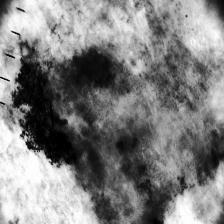Benign Marking or Mole: (16, 47, 77, 166)
